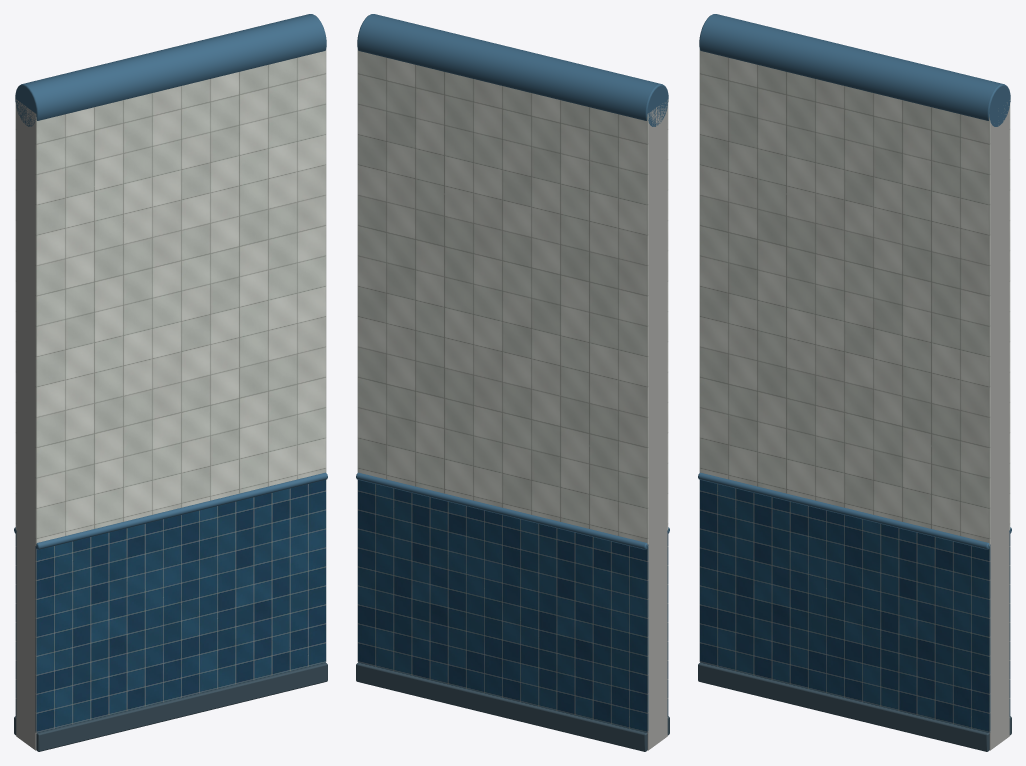
The model's file is tile_partition_module.mobile.glb.
3 views of the same model, side by side, from view 1: azimuth 30°, elevation 25°; view 2: azimuth 150°, elevation 25°; view 3: azimuth 330°, elevation 25° (orthographic).
Parts seen in each view (by area): view 1: TilePartition; view 2: TilePartition; view 3: TilePartition.
Part boxes in pixels (x1,y1,x2,y2): TilePartition: (14, 14, 327, 751); TilePartition: (356, 14, 669, 751); TilePartition: (698, 14, 1011, 751).
Size of the model in its own units: 2 by 4.33 by 0.2979.
5 materials, 2 textured.
